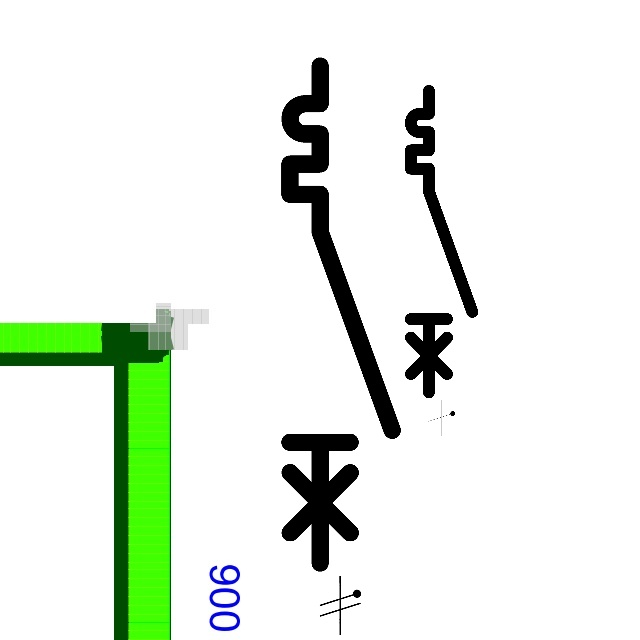interruptor_termomagnetico: (277, 53, 405, 575), (403, 83, 480, 400)
